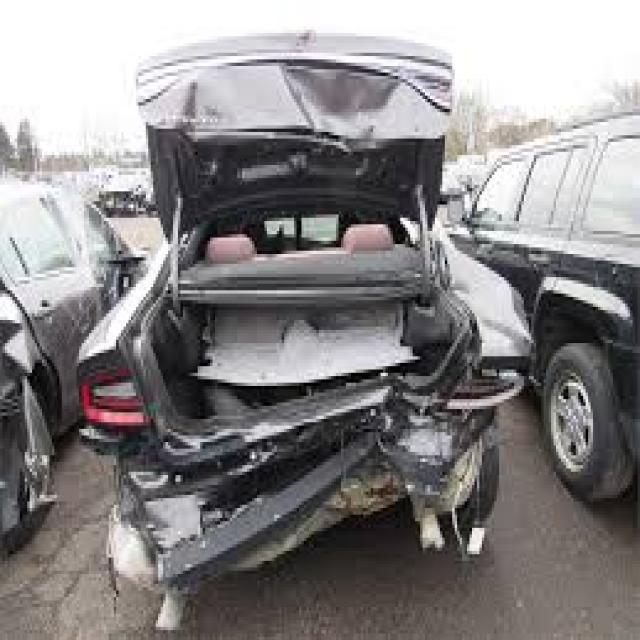damaged-trunk: (160, 242, 468, 446)
